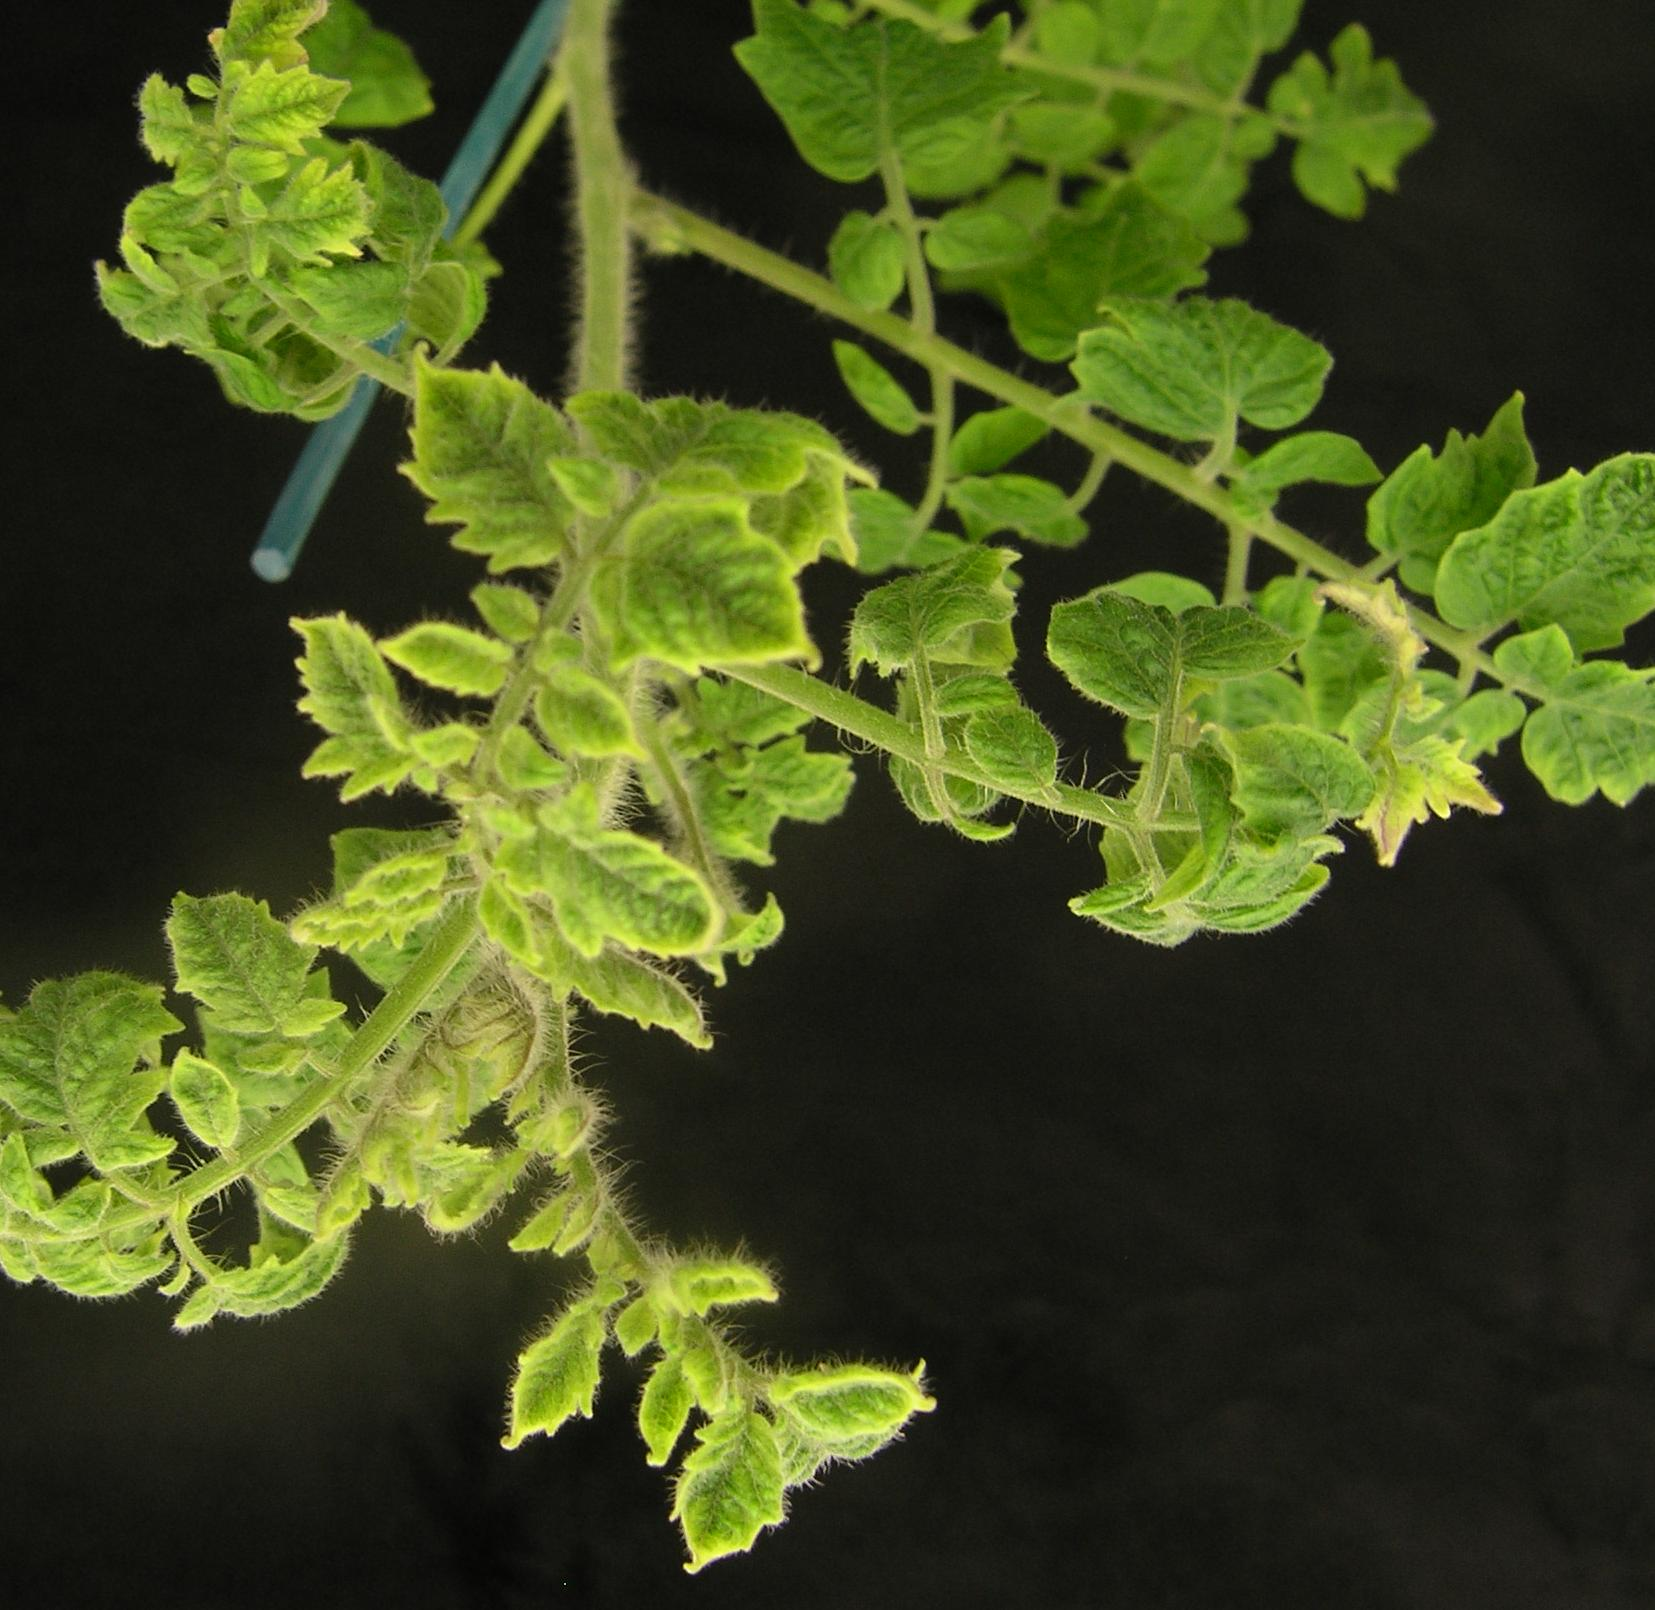Tomato leaf yellow virus: (588, 463, 854, 702), (1407, 456, 1655, 651), (387, 331, 571, 573), (135, 877, 332, 1060), (1503, 608, 1655, 827), (512, 817, 728, 968), (38, 974, 178, 1189), (270, 609, 435, 791), (653, 1399, 788, 1610), (775, 1353, 960, 1459), (226, 175, 380, 287), (206, 0, 348, 105), (27, 1219, 164, 1324), (218, 74, 369, 153)
